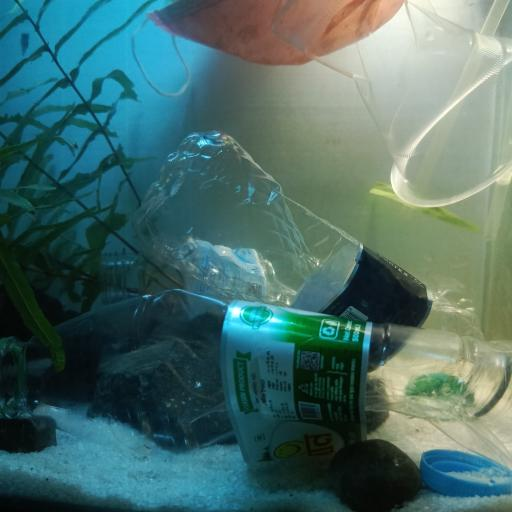bottle_cap: (419, 448, 512, 497), (405, 372, 477, 416)
mask: (130, 0, 409, 99)
plastic_bottle: (134, 132, 512, 419), (0, 289, 512, 465), (102, 232, 478, 338)
plastic_cup: (269, 0, 512, 210)
plastic_straw: (412, 0, 512, 199)
